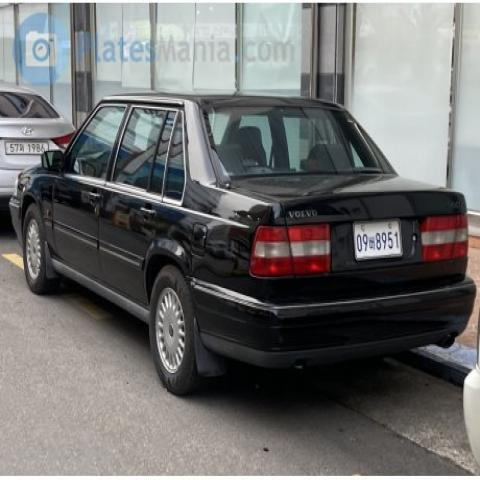LP: (350, 213, 409, 265)
